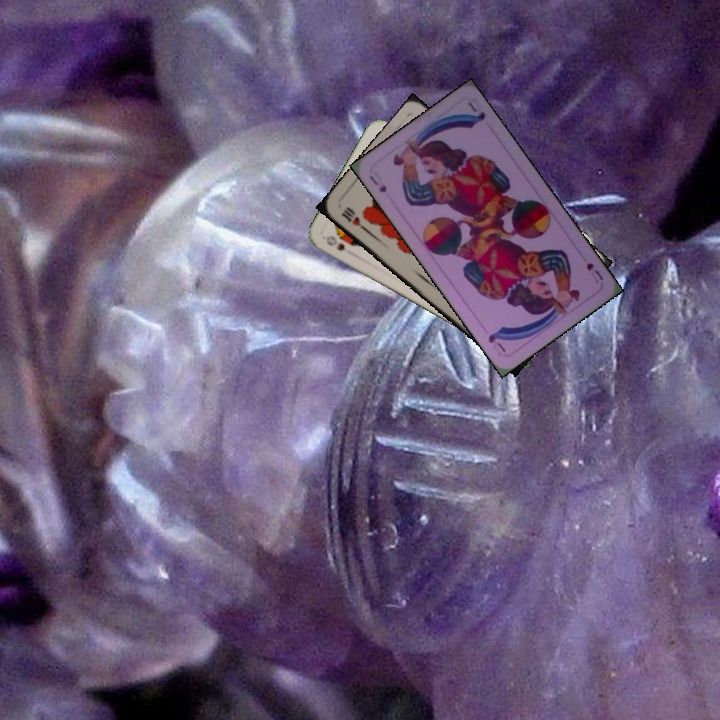H10: (337, 203, 370, 234)
SO: (322, 231, 348, 254)
SU: (365, 167, 389, 195), (582, 259, 606, 286)
